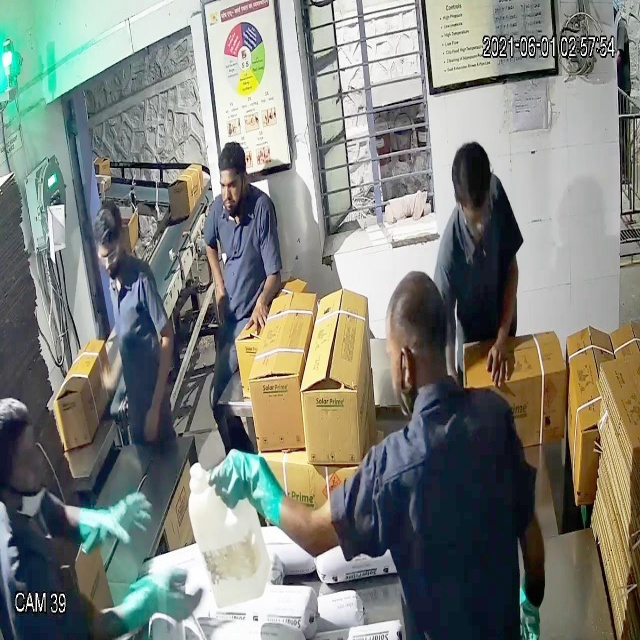Gafas: (91, 236, 128, 271)
